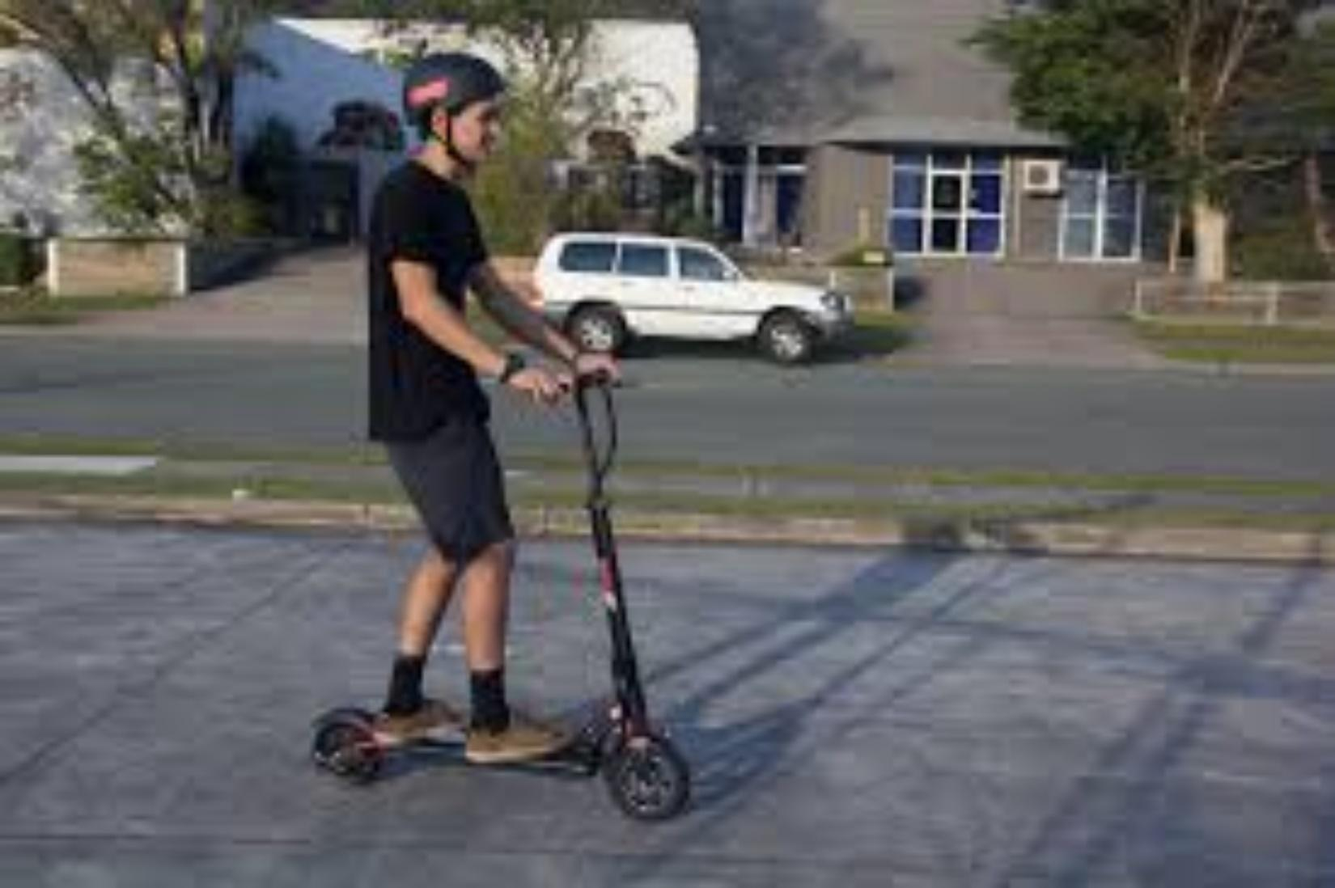helmet: (395, 31, 513, 170)
human: (362, 38, 607, 762)
kickboard: (307, 701, 694, 828)
